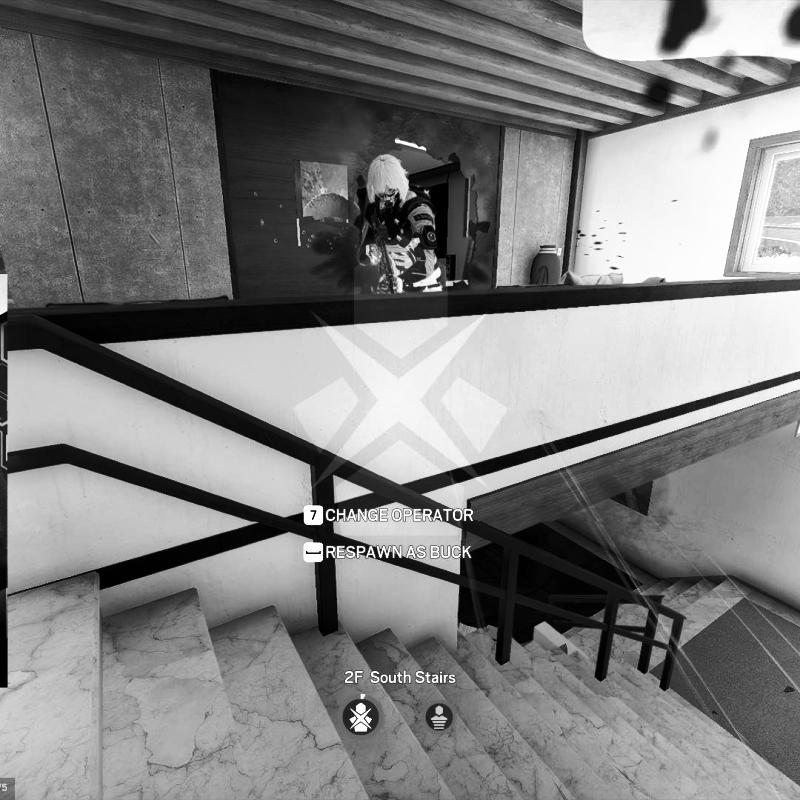Character: (356, 154, 444, 296)
Head: (364, 156, 414, 208)
